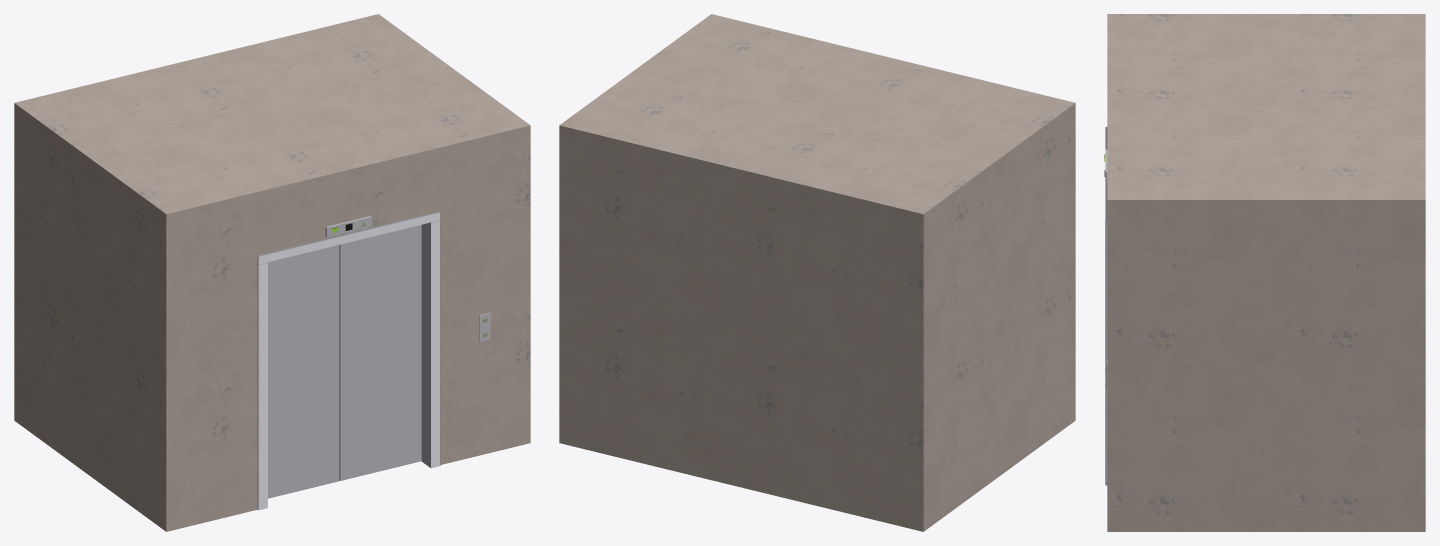
File: Elevator.FBX
The picture shows the model from 3 angles, left to right: view 1: azimuth 30°, elevation 25°; view 2: azimuth 150°, elevation 25°; view 3: azimuth 270°, elevation 25°; orthographic projection. The views are drawn at different scales.
Visible parts, largest first — view 1: Elevator_Exterior, Door_Right, Door_Left; view 2: Elevator_Exterior; view 3: Elevator_Exterior.
Boxes of the visible parts, x1,y1,x2,y2 form: Elevator_Exterior: [14, 14, 530, 531]; Door_Right: [339, 225, 421, 480]; Door_Left: [268, 245, 339, 498]; Elevator_Exterior: [559, 14, 1075, 531]; Elevator_Exterior: [1104, 14, 1425, 531].
Size of the model in its own units: 120 by 100 by 87.63.
